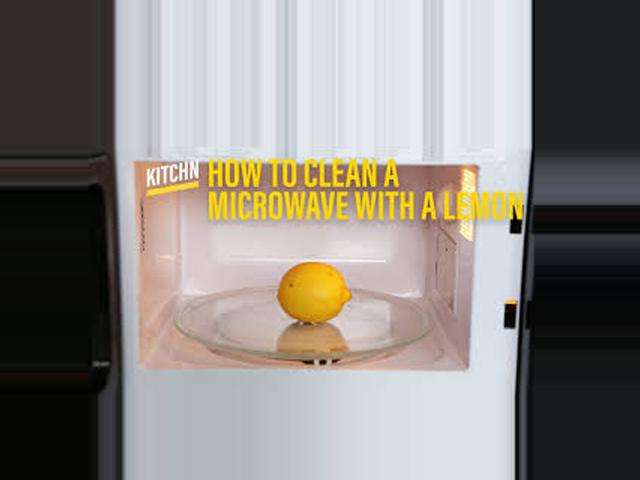lemon: (272, 253, 383, 334)
